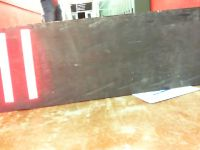switch: (20, 29, 39, 99), (1, 32, 13, 103)
